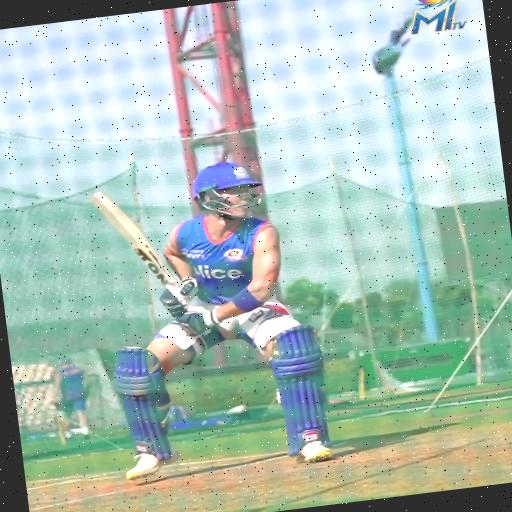Cricket bat: (92, 192, 183, 300)
